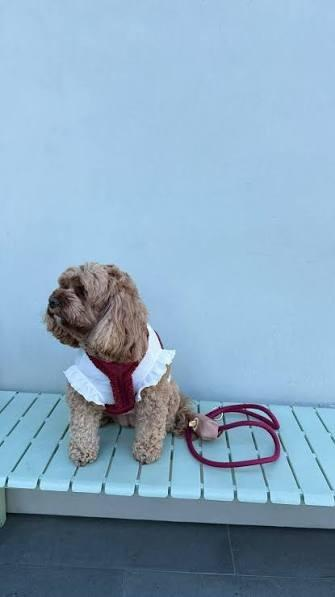adult_dog: (43, 262, 191, 467)
